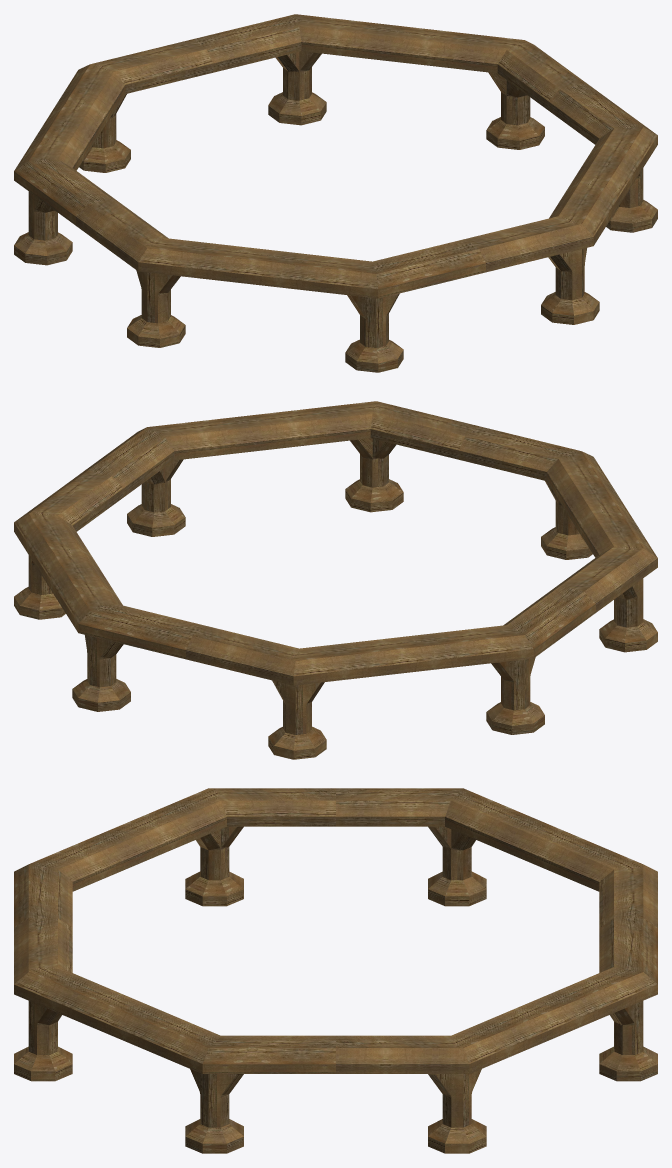
Rendered from LibraryMainRailing-transformed.glb.
3 views of the same model, one above another, from view 1: azimuth 30°, elevation 25°; view 2: azimuth 150°, elevation 25°; view 3: azimuth 270°, elevation 25° (orthographic). The views are drawn at different scales.
Parts seen in each view (by area): view 1: object1.051; view 2: object1.051; view 3: object1.051.
Boxes of the visible parts, bbox=[...] form: object1.051: bbox=[14, 14, 657, 372]; object1.051: bbox=[14, 401, 657, 759]; object1.051: bbox=[14, 788, 657, 1153].
Size of the model in its own units: 2.2 by 0.375 by 2.2.
1 material, 1 textured.
